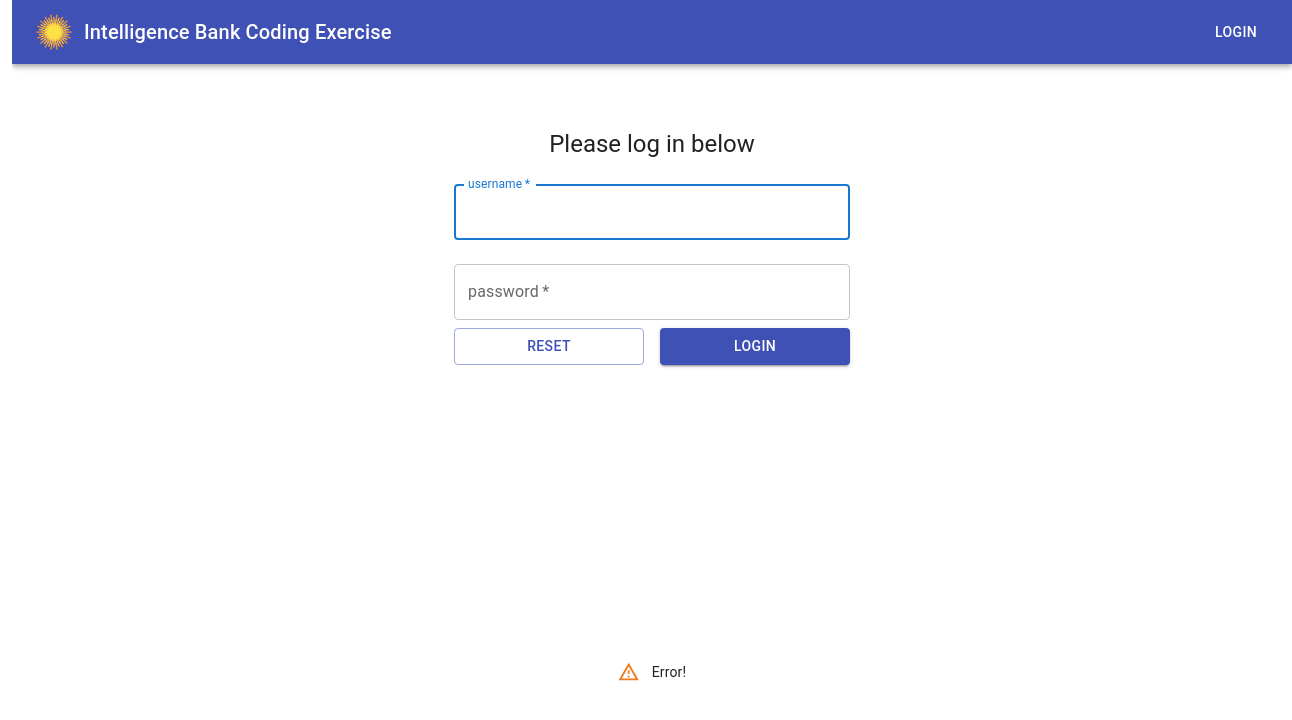
it: test when user enter input › should redirect to welcome page and display success in snackbar when user enter correct input
In the field labelled "username": point(652, 212) [454, 184, 850, 240], type "testuser"
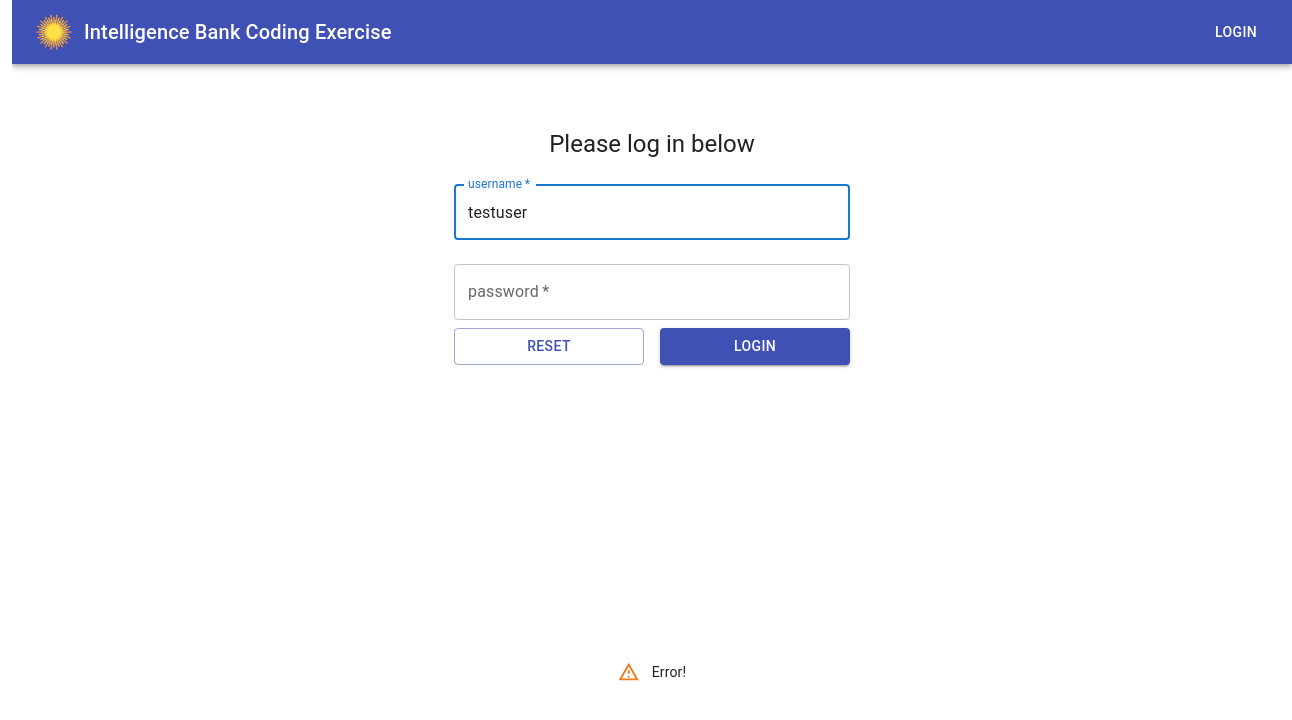
In the password field labelled "password *": point(652, 292) [454, 264, 850, 320], type "password"
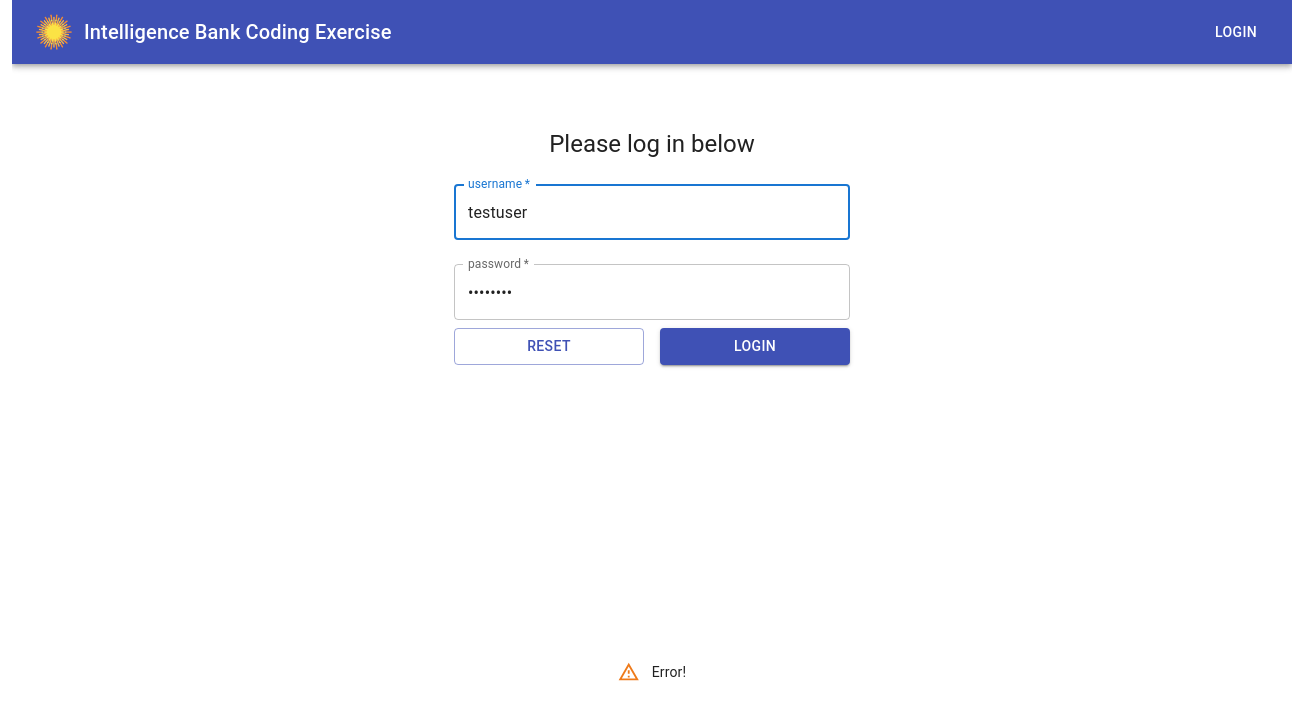
Click the button "Login" below "password": point(755, 346) [660, 328, 850, 364]
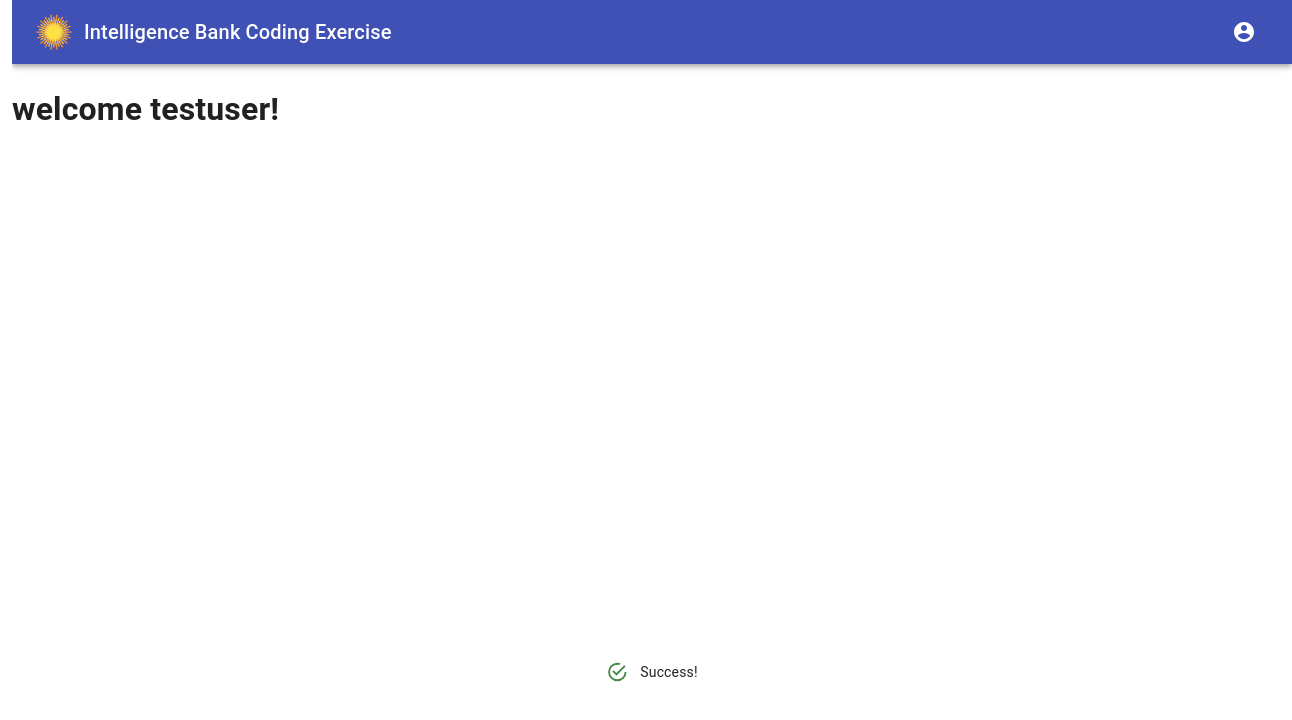
Now the text "Success!" is shown, box [640, 664, 698, 680]
Now the heading "welcome testuser!" is shown, box [12, 90, 279, 128]
